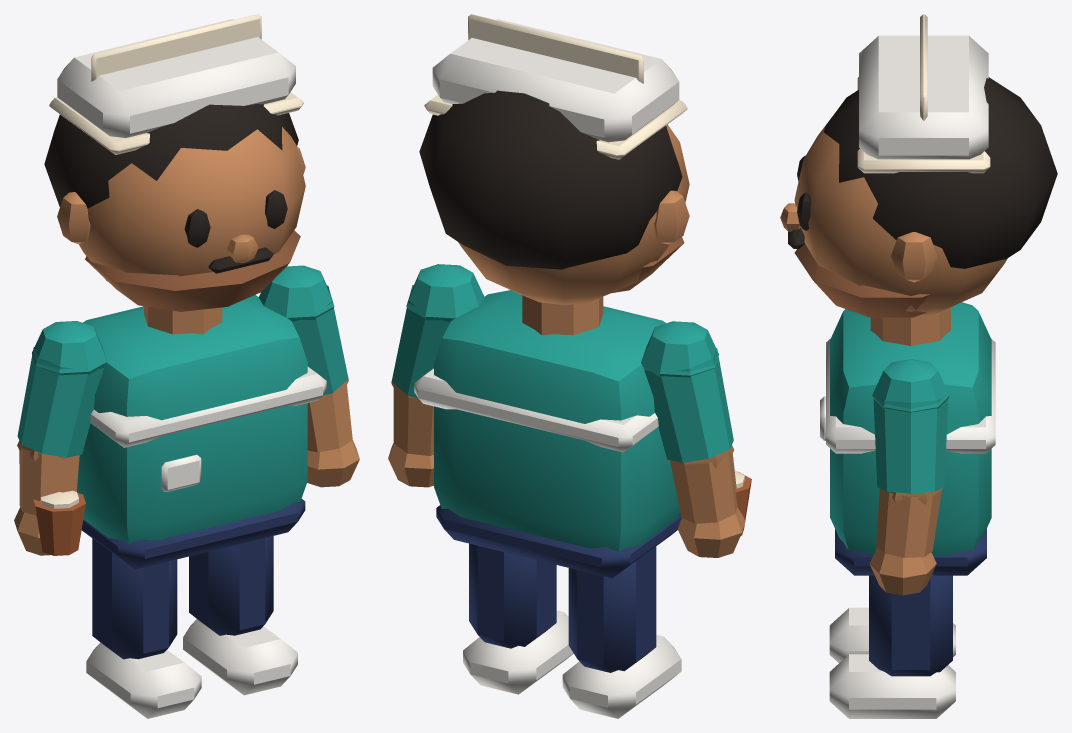
Rendered from bittu.glb.
3 views of the same model, side by side, from view 1: azimuth 30°, elevation 25°; view 2: azimuth 150°, elevation 25°; view 3: azimuth 270°, elevation 25° (orthographic). The views are drawn at different scales.
Parts seen in each view (by area): view 1: head, body, arm_r, leg_r, leg_l, arm_l; view 2: head, body, arm_r, leg_r, leg_l, arm_l; view 3: head, body, arm_l, leg_l, leg_r.
Part boxes in pixels (x1,y1,x2,y2): head: [44, 14, 305, 311]; body: [76, 295, 326, 569]; arm_r: [14, 321, 107, 555]; leg_r: [86, 538, 201, 718]; leg_l: [183, 536, 297, 695]; arm_l: [258, 265, 359, 487]; head: [419, 14, 689, 305]; body: [414, 290, 681, 578]; arm_r: [641, 321, 751, 557]; leg_r: [562, 546, 681, 718]; leg_l: [463, 543, 573, 694]; arm_l: [388, 264, 484, 487]; head: [780, 14, 1057, 317]; body: [820, 302, 995, 575]; arm_l: [869, 359, 949, 595]; leg_l: [829, 574, 955, 718]; leg_r: [829, 607, 955, 662].
Bounding box in the file's own units: 0.598 × 1.08 × 0.429.
1 material, 1 textured.
